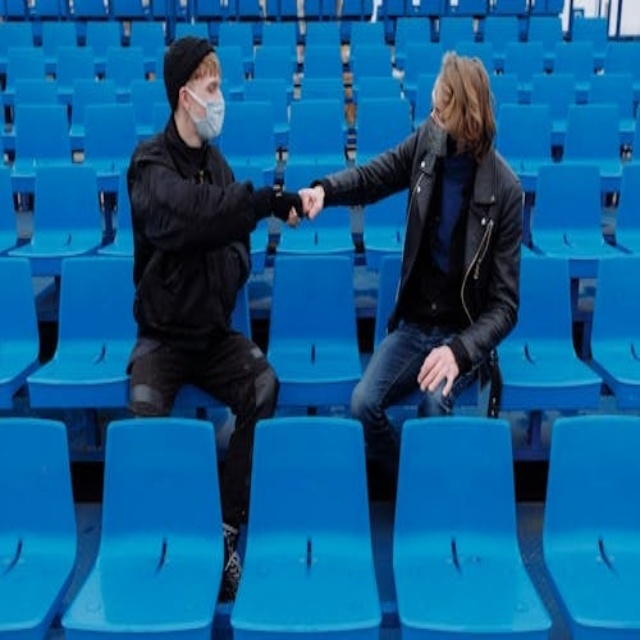Guantes: (266, 175, 303, 223)
Mascara: (184, 85, 225, 141), (425, 109, 449, 157)
Sin_gafas: (426, 86, 453, 127), (187, 69, 224, 96)
Sin_guantes: (412, 336, 460, 398), (289, 173, 326, 234)
